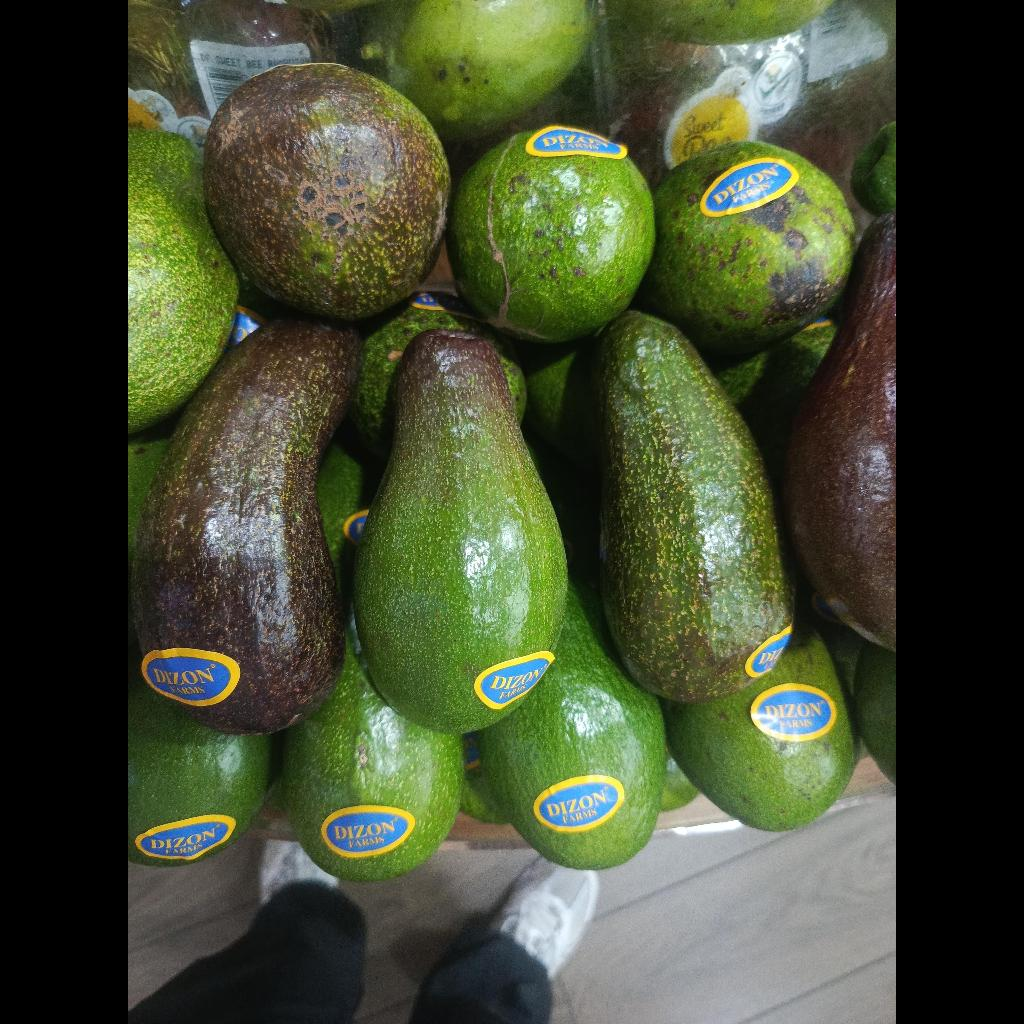anthracnose: (132, 321, 360, 734), (594, 311, 793, 702), (203, 63, 450, 320)
healthy: (354, 330, 566, 734), (478, 582, 666, 870), (783, 211, 896, 651), (282, 625, 464, 881), (662, 625, 857, 831), (128, 129, 238, 432)
scab: (203, 64, 450, 320), (636, 141, 855, 355), (446, 125, 655, 344)
